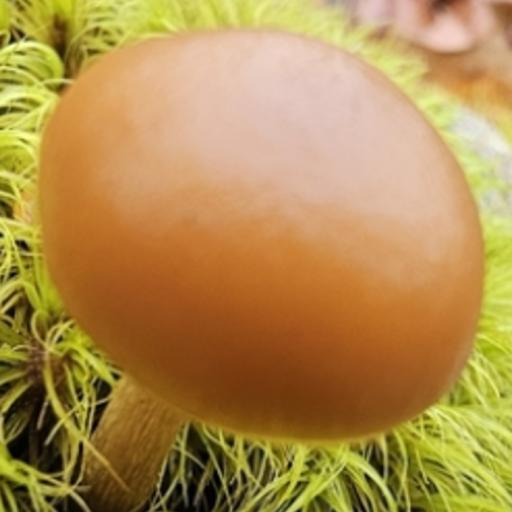mushroom: (28, 25, 492, 461)
